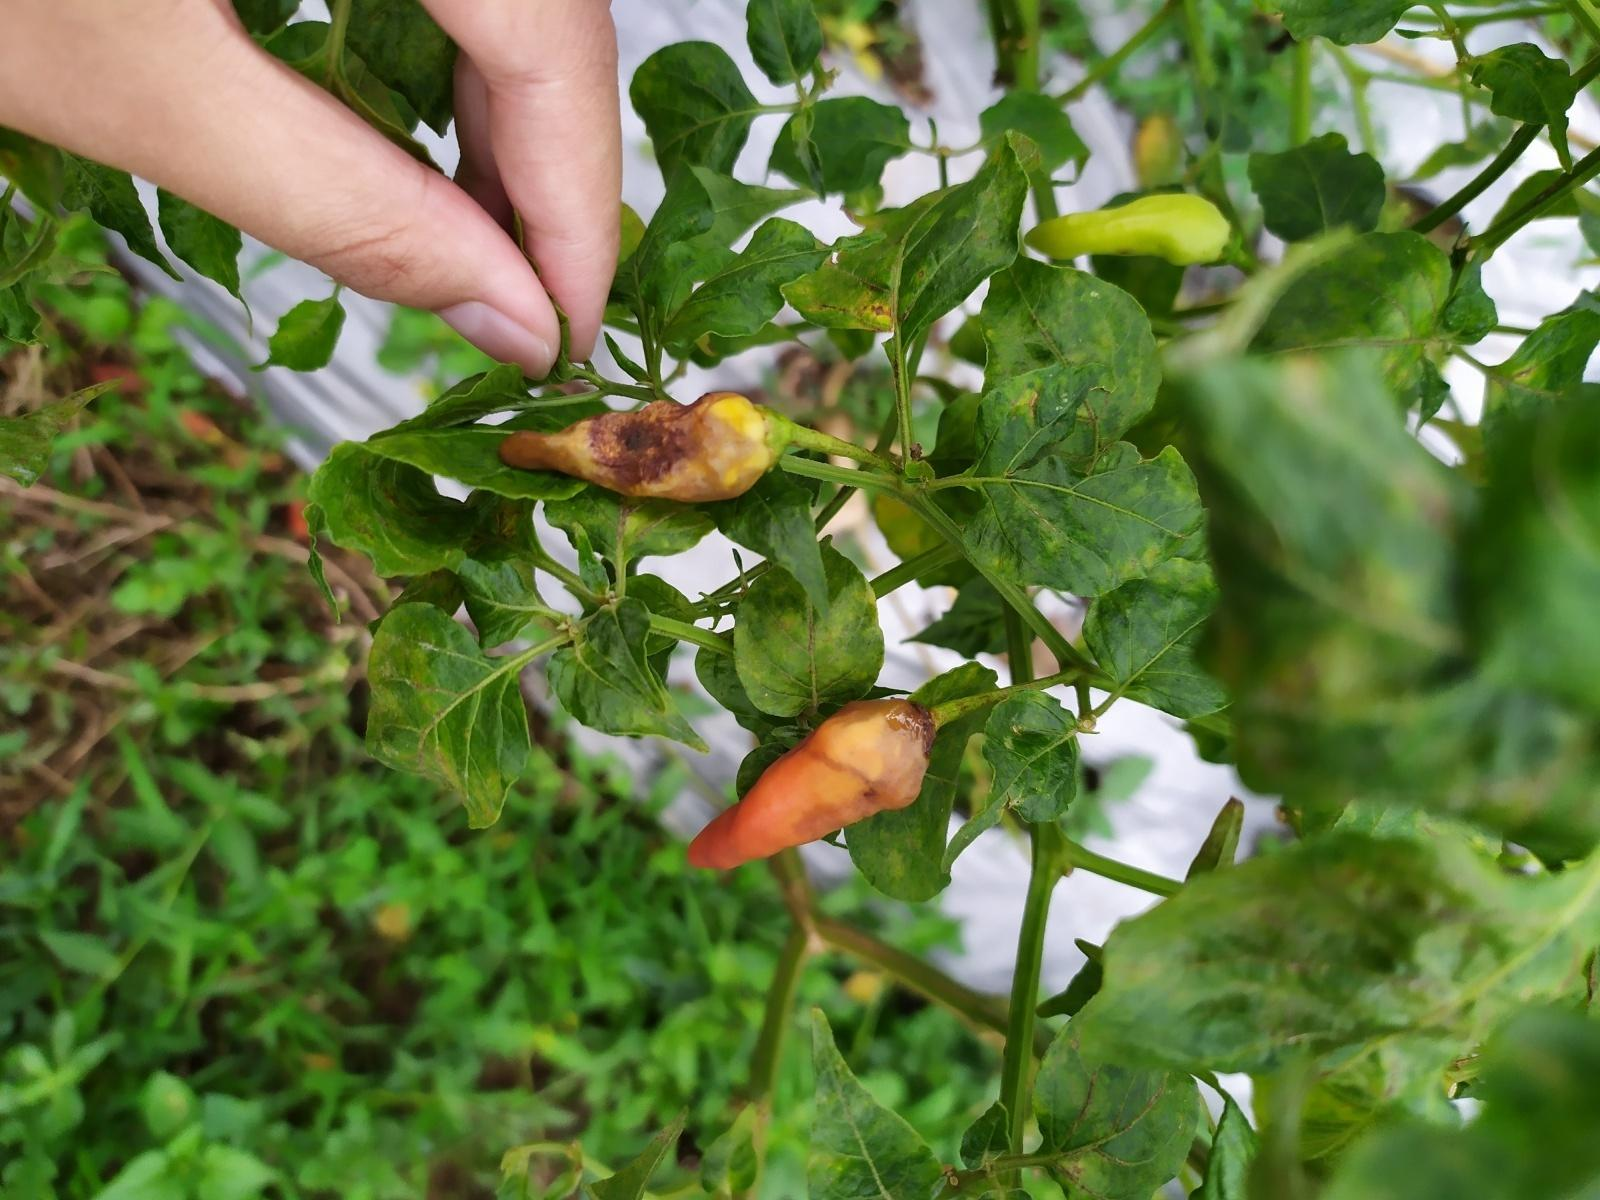antraknosa: (493, 388, 779, 504)
cabai_normal: (1022, 192, 1231, 267)
lalat_buah: (683, 694, 932, 874)
